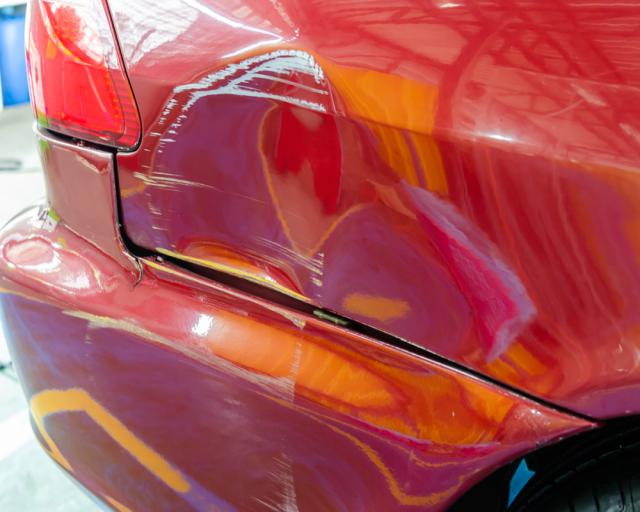crack: (118, 235, 143, 292)
dent: (316, 194, 480, 368)
scratch: (59, 258, 311, 512), (143, 47, 339, 301)
